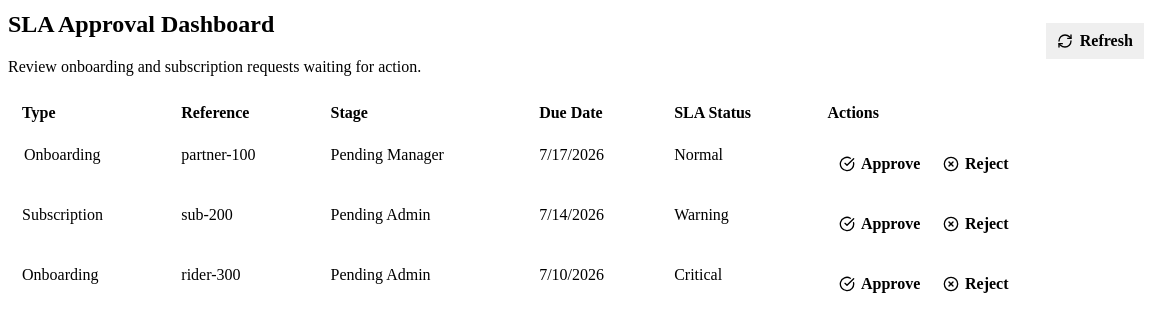
Test: ApprovalDashboard › advances a case through the configured API endpoint
Expected: the text "partner-100" is shown, [169, 134, 319, 194]
Click the button "Approve" in the row of "partner-100": [879, 164] box [827, 146, 931, 182]
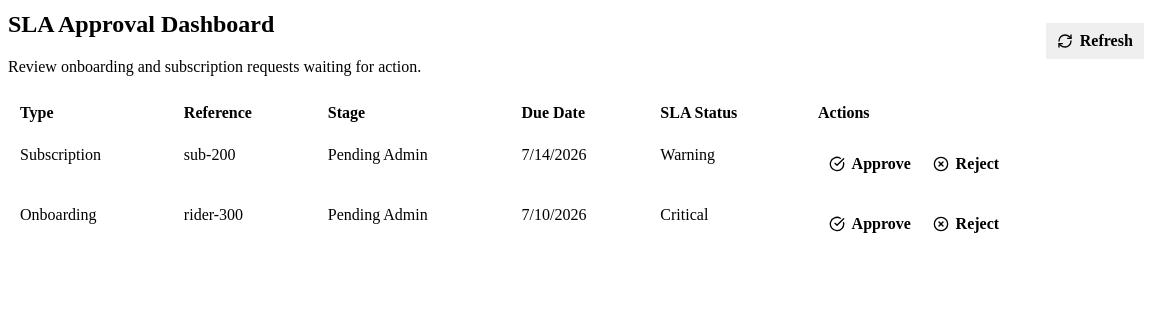
Now the text "partner-100" is gone
